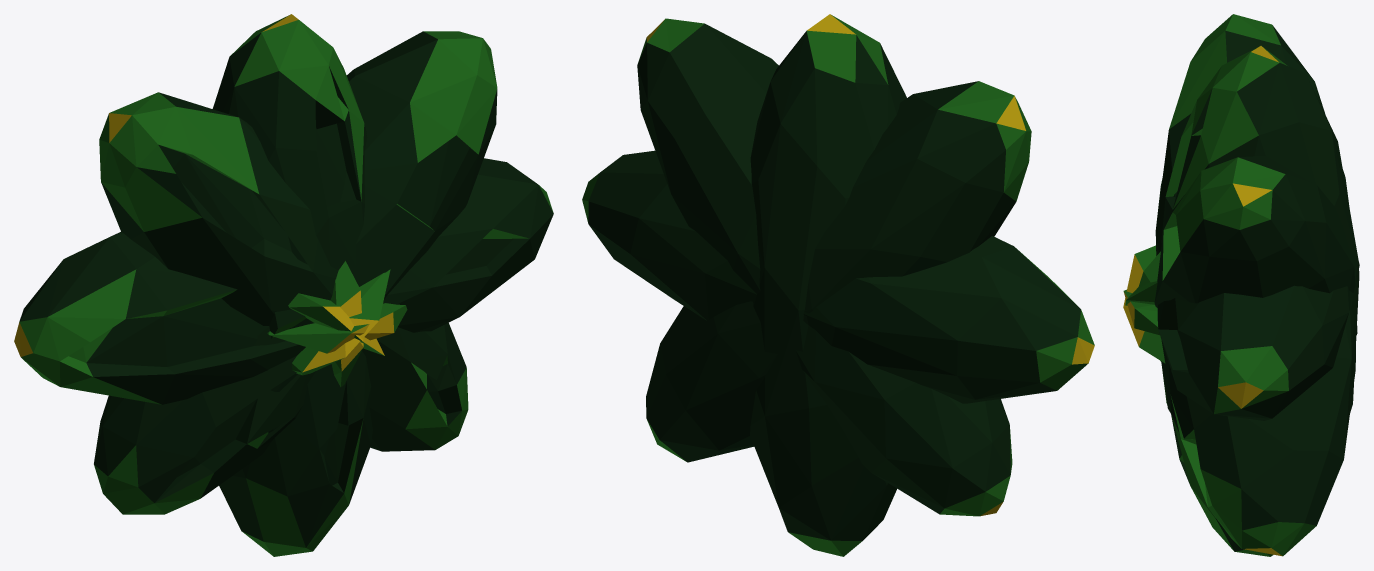
File: inimigosobstaculosv2.fbx
3 views of the same model, side by side, from view 1: azimuth 30°, elevation 25°; view 2: azimuth 150°, elevation 25°; view 3: azimuth 270°, elevation 25° (orthographic). The views are drawn at different scales.
Visible parts, largest first — view 1: obs estrela; view 2: obs estrela; view 3: obs estrela.
Part boxes in pixels (box(x1,y1,x2,y2)): obs estrela: box(14, 14, 553, 556); obs estrela: box(582, 14, 1094, 556); obs estrela: box(1123, 14, 1359, 556).
Size of the model in its own units: 157 by 157 by 66.26.
